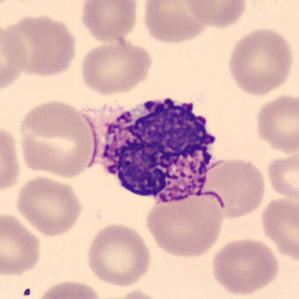Basophil: (89, 88, 227, 208)
Platelets: (21, 287, 32, 298)
RBC: (15, 98, 100, 180), (143, 188, 227, 260), (2, 12, 80, 78), (225, 25, 296, 97), (77, 36, 154, 97), (84, 221, 154, 288), (12, 174, 85, 237), (208, 235, 282, 296), (204, 155, 268, 219), (139, 0, 216, 45), (252, 91, 299, 155), (0, 210, 43, 278), (257, 194, 298, 263), (78, 0, 141, 43), (0, 20, 31, 95), (182, 0, 250, 29), (264, 150, 298, 201), (0, 121, 23, 196), (34, 277, 104, 299), (104, 288, 168, 299)
